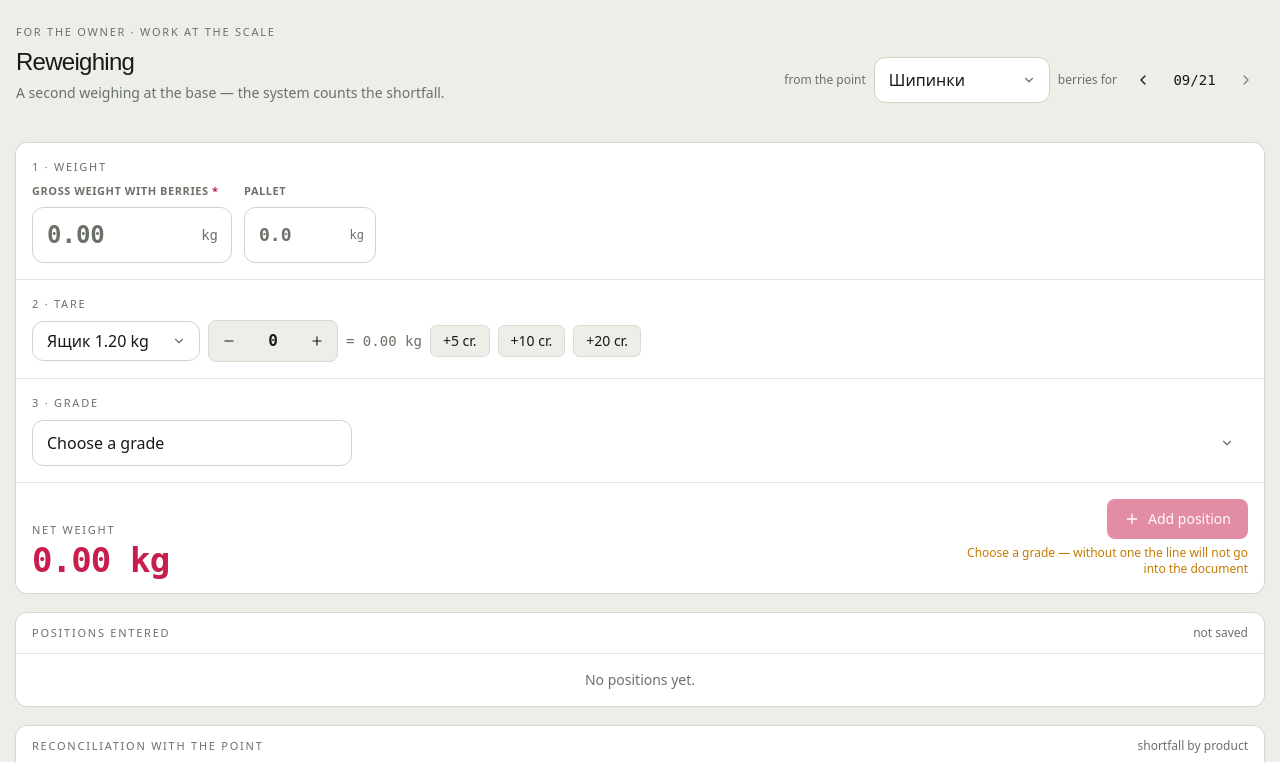
Test: ReweighPage › clears the drafts when the point changes — they belonged to another day
The width and height of the screenshot is (1280, 762).
Type "100.00" into the field labelled "Gross weight with berries". click: (132, 234)
box: [32,206,232,262]
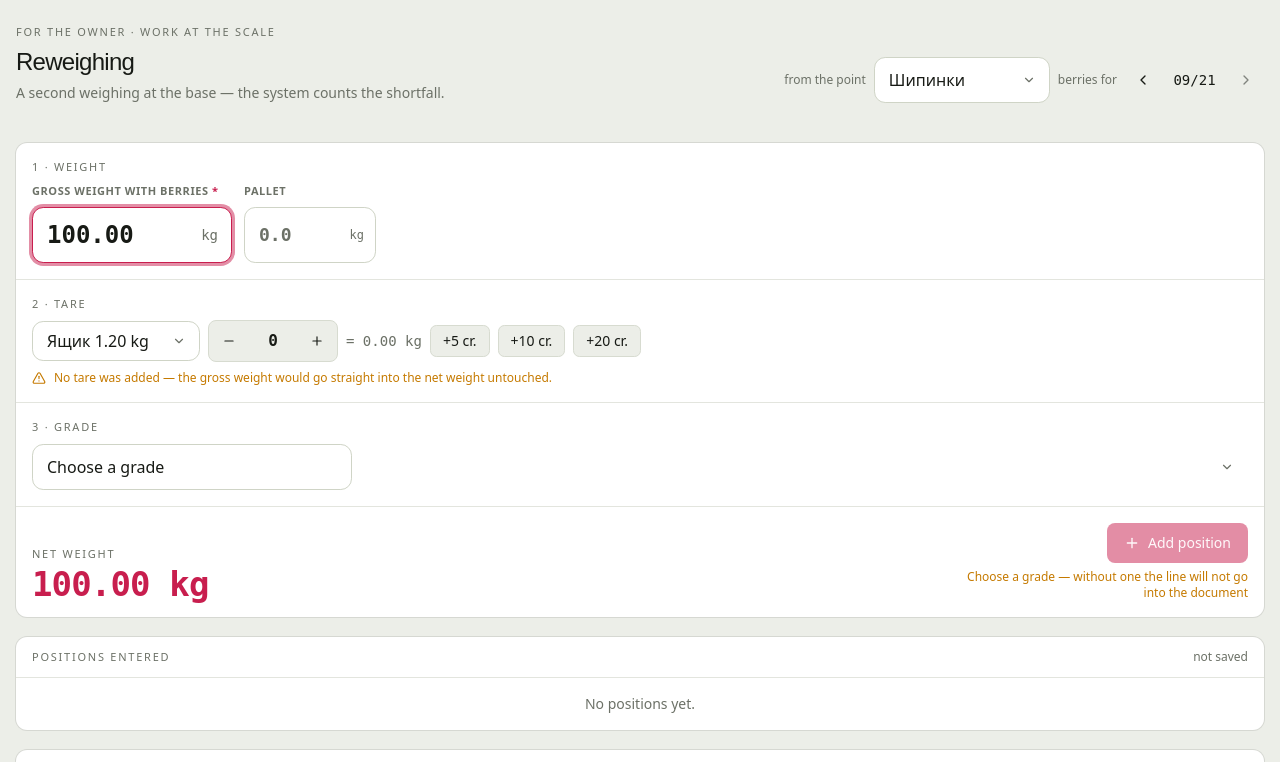
Select "Малина 1" in the dropdown named "Grade". click: (192, 466)
box: [32,444,352,490]
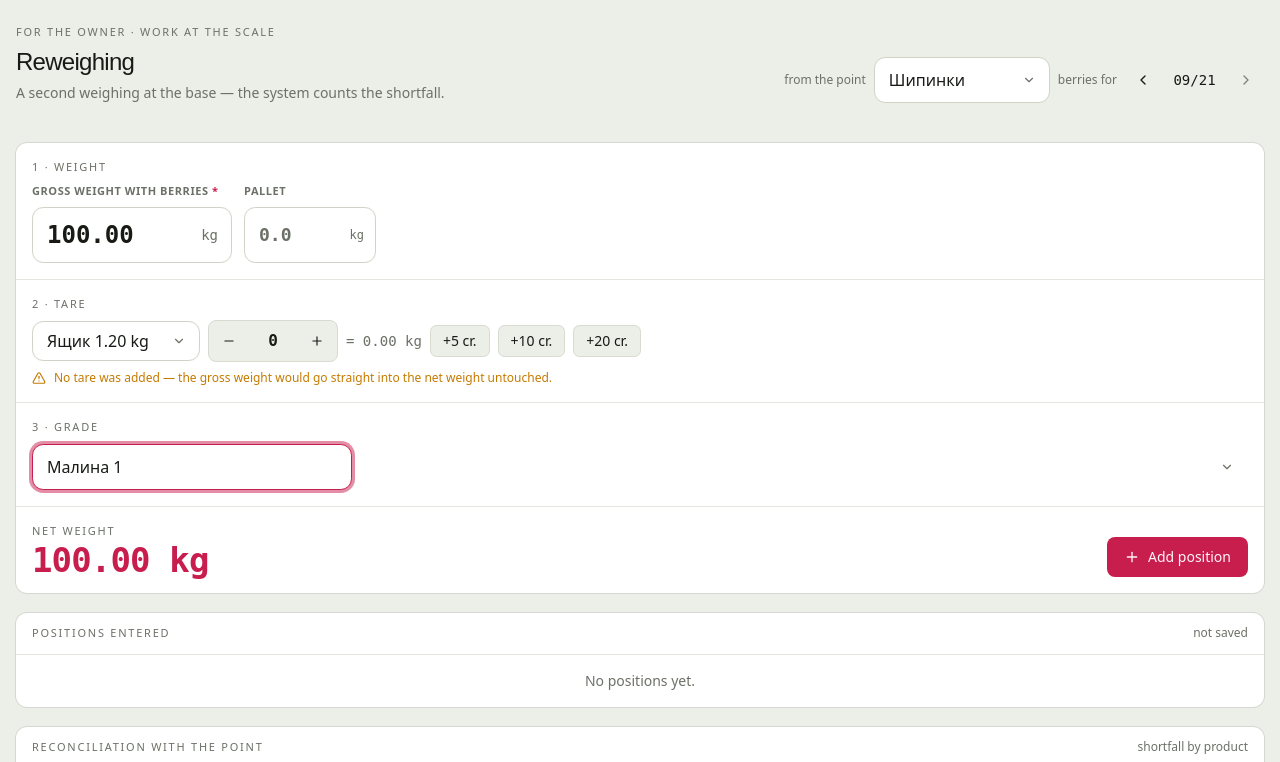
Click the button "Add position". click: (1178, 557)
box: [1107,537,1248,577]
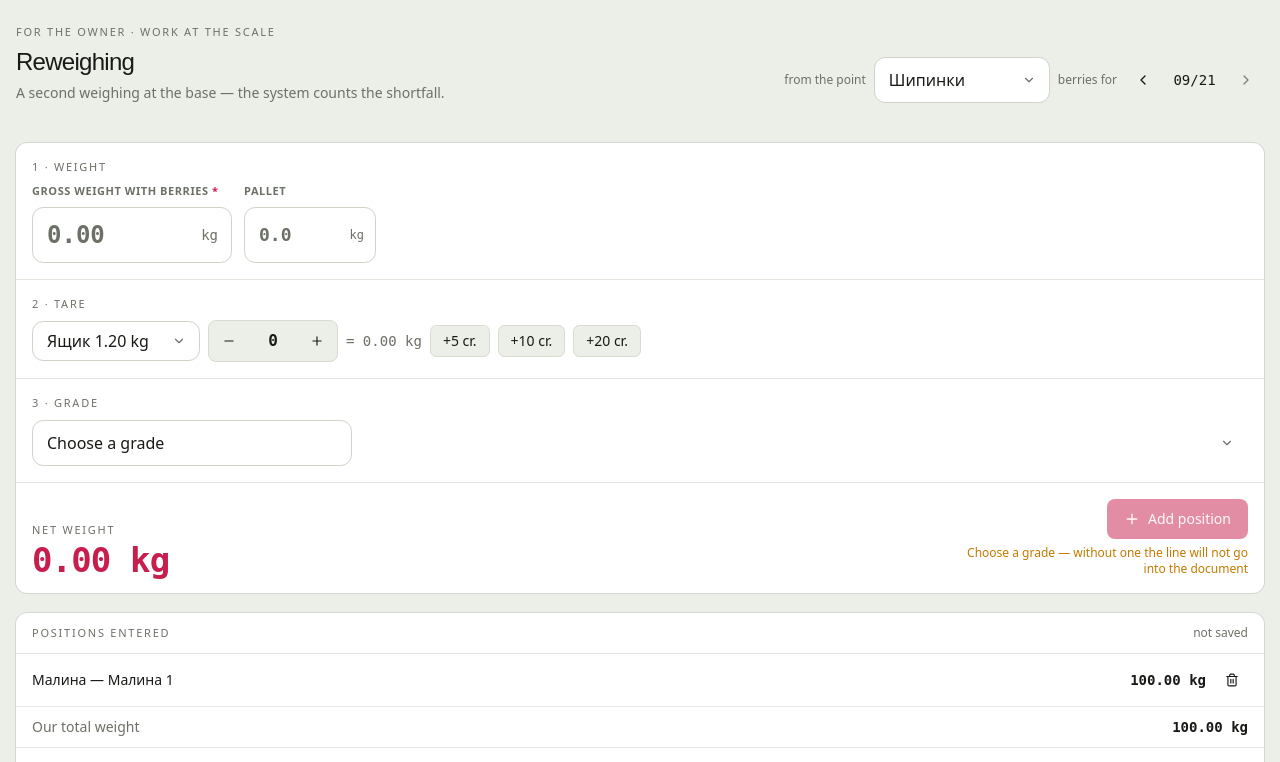
Select "Гайове" in the dropdown named "from the point". click: (962, 80)
box: [874,56,1050,102]
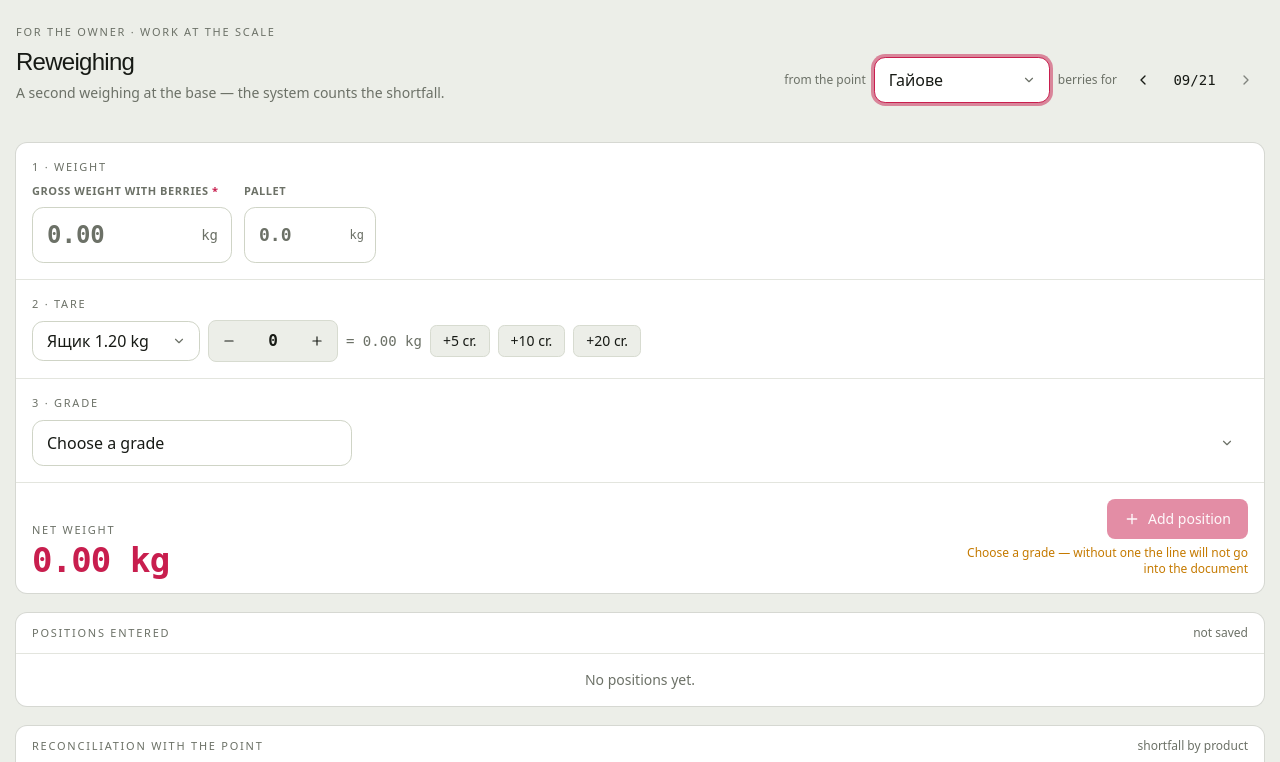
Check: the text "No positions yet." is shown, box [585,670,695,689]
